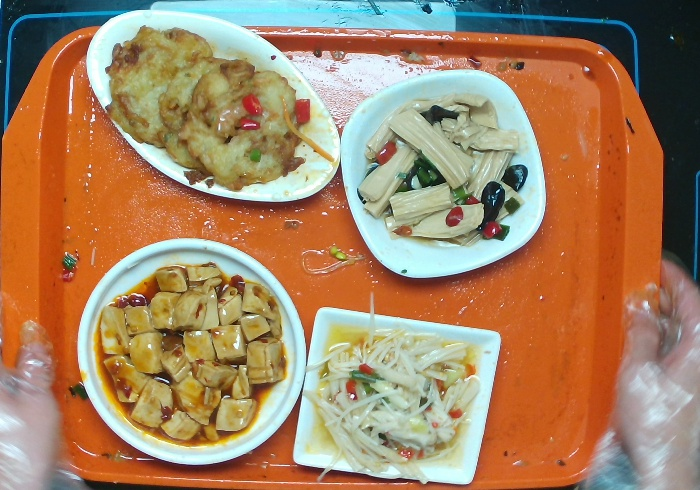HZYJPL-Si_Fang_Die: (292, 306, 501, 490)
HZYJPL-Si_Fang_Yuan_Die: (338, 68, 549, 282)
HZYJPL-Xiao_Yu_Die: (81, 8, 344, 208)
HZYJPL-Xiao_Yuan_Die: (71, 238, 308, 469)
